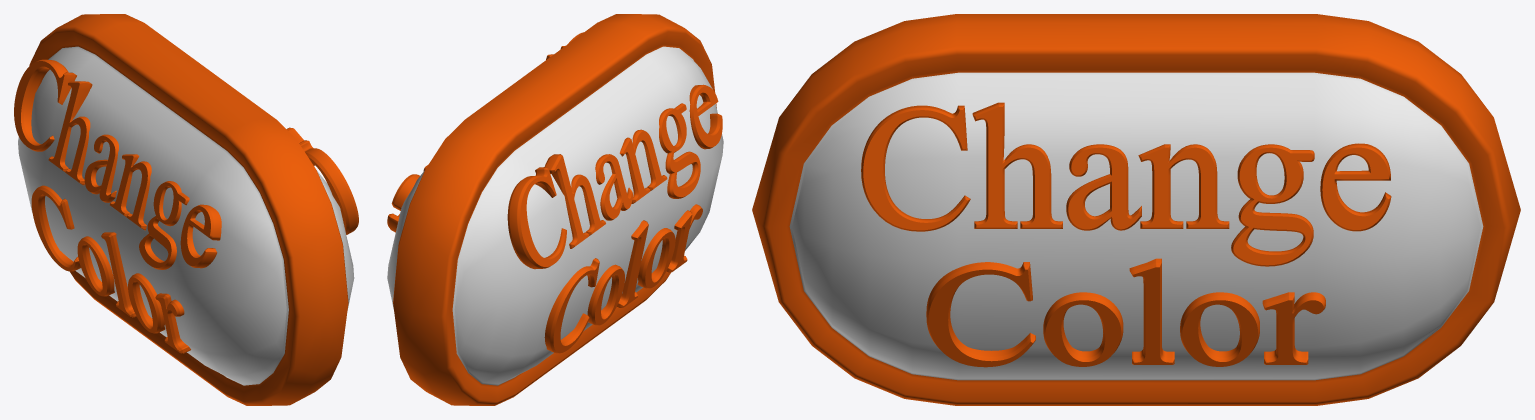
The model's file is changeColorButton.fbx.
The picture shows the model from 3 angles, left to right: view 1: azimuth 30°, elevation 25°; view 2: azimuth 150°, elevation 25°; view 3: azimuth 270°, elevation 25°; orthographic projection. The views are drawn at different scales.
Visible parts, largest first — view 1: pCylinder1, polySurface4, polySurface5, polySurface2; view 2: pCylinder1, polySurface4, polySurface5, polySurface2; view 3: pCylinder1, polySurface2, polySurface3.
Part boxes in pixels (left/top/right/bottom): pCylinder1: left=18, top=14, right=354, bottom=405; polySurface4: left=14, top=59, right=221, bottom=269; polySurface5: left=31, top=185, right=190, bottom=353; polySurface2: left=286, top=127, right=358, bottom=234; pCylinder1: left=387, top=14, right=723, bottom=405; polySurface4: left=507, top=84, right=722, bottom=269; polySurface5: left=544, top=204, right=702, bottom=353; polySurface2: left=387, top=32, right=583, bottom=232; pCylinder1: left=752, top=14, right=1520, bottom=405; polySurface2: left=861, top=102, right=1391, bottom=266; polySurface3: left=926, top=258, right=1325, bottom=367.
Bounding box in the file's own units: 1.51 × 2.32 × 4.32.
